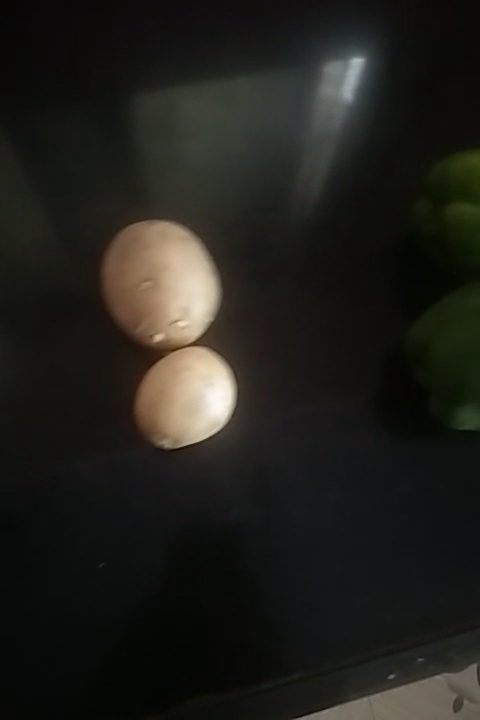capsicum: (397, 277, 480, 422), (411, 154, 480, 264)
potato: (101, 215, 220, 342), (130, 345, 243, 454)
